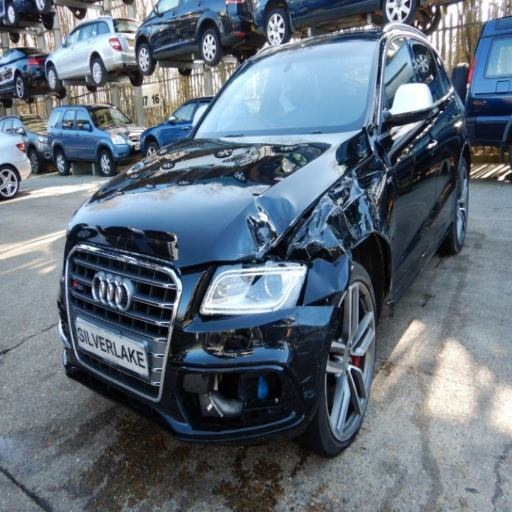dent: (235, 196, 294, 262), (349, 134, 370, 167), (366, 111, 378, 148)
scratch: (301, 320, 338, 401), (370, 85, 381, 136), (289, 216, 300, 228), (219, 367, 235, 371), (425, 257, 431, 265), (302, 412, 307, 421), (394, 288, 400, 295), (422, 253, 426, 259), (444, 232, 448, 238), (432, 251, 435, 256), (420, 268, 422, 272)
